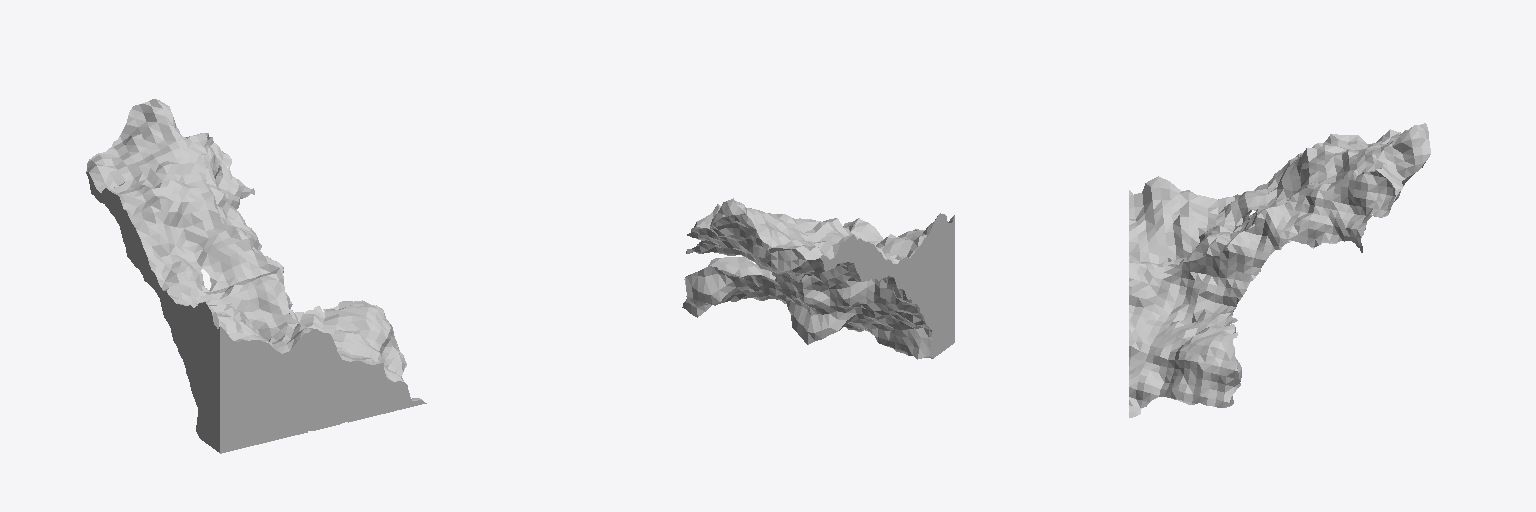
The model's file is cube_20_seed_4_shard.015.obj.
3 renders of one model, left to right at view 1: azimuth 30°, elevation 25°; view 2: azimuth 150°, elevation 25°; view 3: azimuth 270°, elevation 25°, orthographic.
Parts seen in each view (by area): view 1: Cube_shard.015_Cube_shard.115; view 2: Cube_shard.015_Cube_shard.115; view 3: Cube_shard.015_Cube_shard.115.
Part boxes in pixels (x1,y1,x2,y2): Cube_shard.015_Cube_shard.115: (86, 99, 426, 453); Cube_shard.015_Cube_shard.115: (682, 198, 954, 359); Cube_shard.015_Cube_shard.115: (1129, 123, 1430, 417).
Bounding box in the file's own units: 1.23 × 1.23 × 1.45.